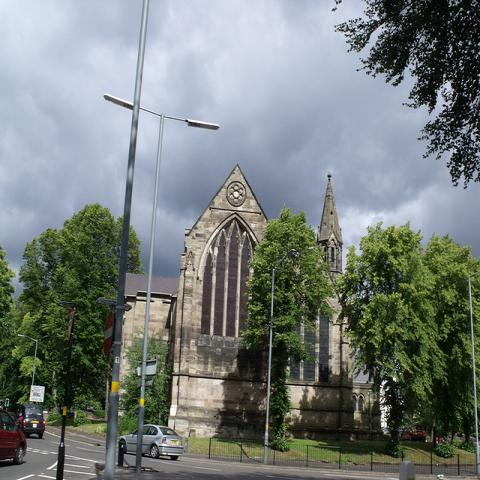car: (116, 425, 184, 461), (1, 408, 28, 466), (17, 403, 46, 439), (399, 424, 427, 443)
